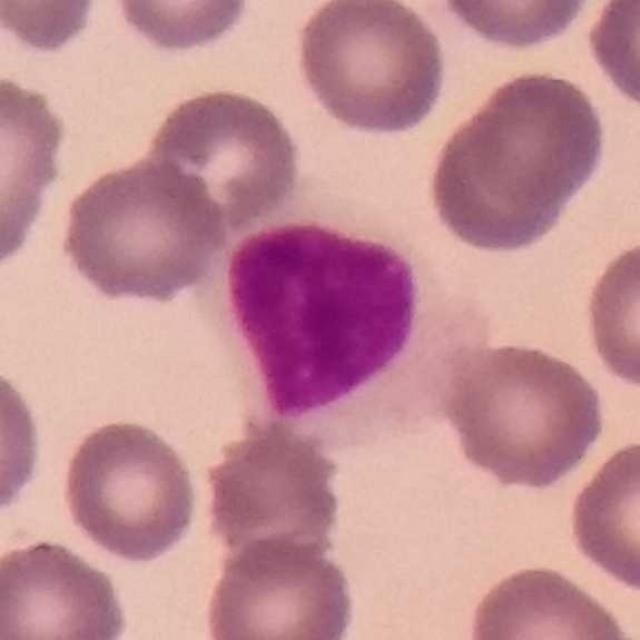Lymphocyte: (194, 195, 502, 452)
RBC: (421, 64, 611, 255), (438, 336, 610, 491), (56, 153, 229, 306), (138, 82, 306, 238), (197, 421, 348, 574), (290, 0, 451, 139), (56, 414, 202, 565), (198, 532, 360, 640), (0, 68, 72, 276), (461, 560, 639, 640), (1, 534, 133, 640), (563, 434, 640, 596), (580, 234, 640, 394), (434, 0, 601, 52), (105, 0, 256, 57), (0, 360, 47, 526), (582, 0, 640, 117), (0, 0, 104, 57)
